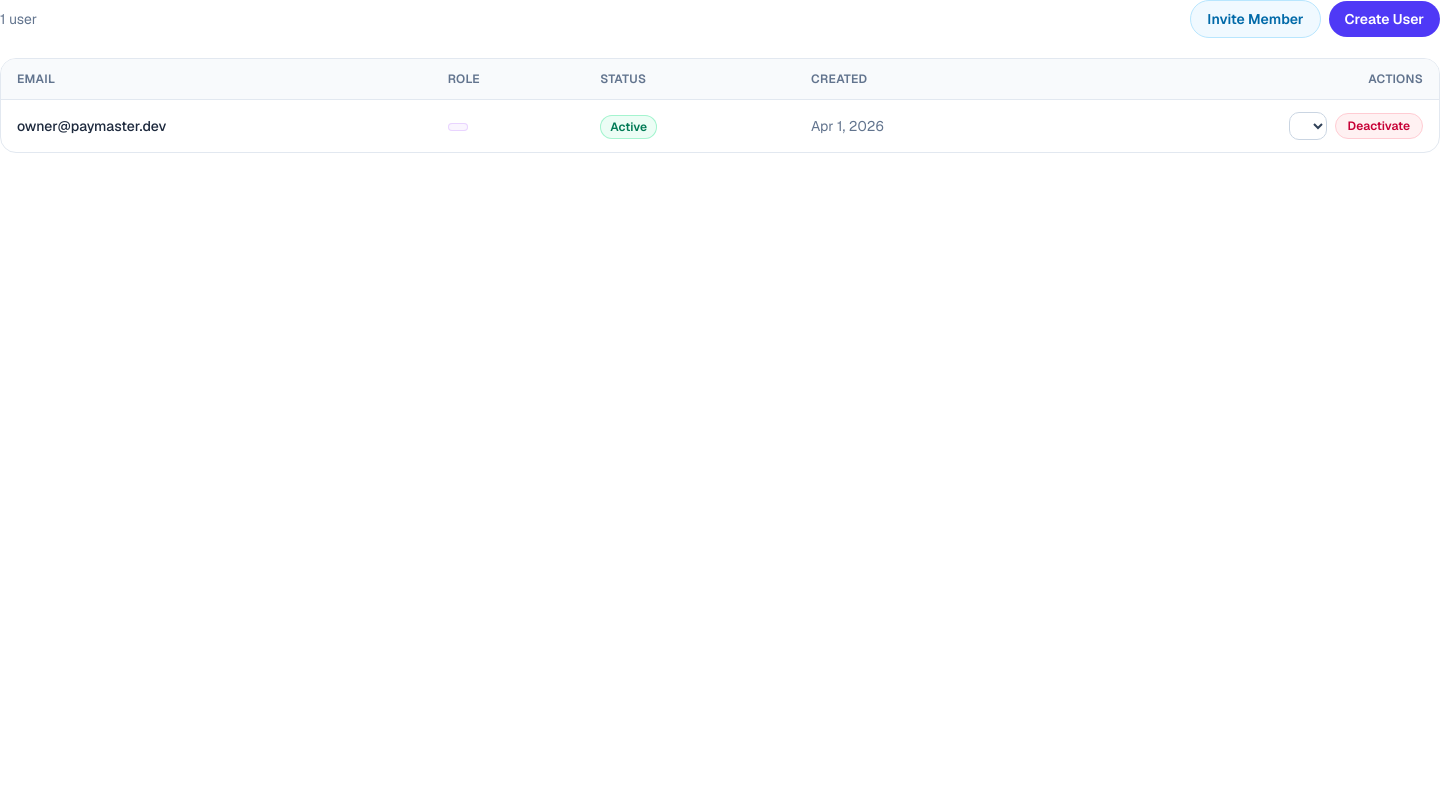
Scenario: AdminUsersTable invitations › creates fallback invitation when API is unavailable
This screenshot has width=1440, height=810.
Click the button "Invite Member" at (1255, 19), box [1190,0,1321,38]
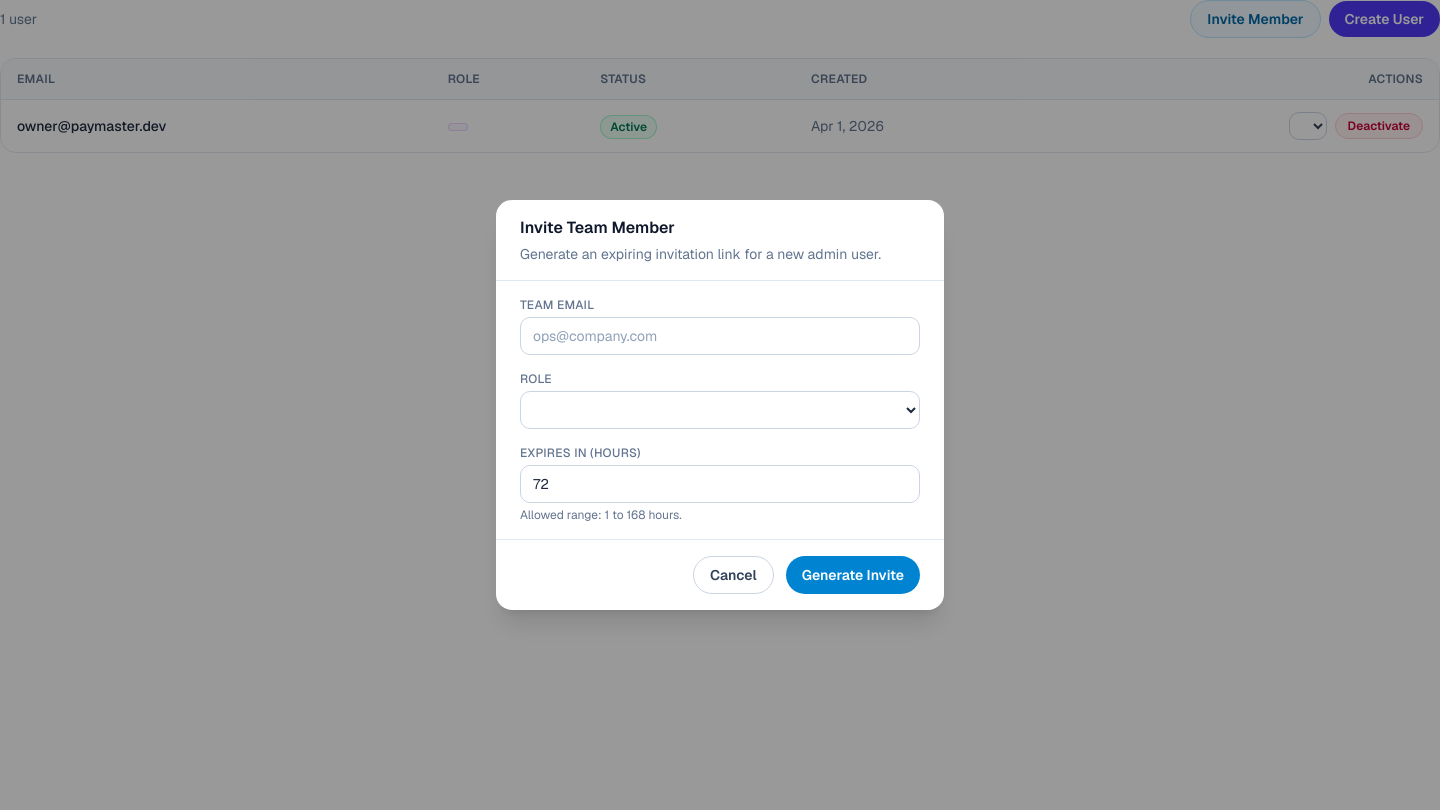
Type "ops@paymaster.dev" into the field with placeholder "ops@company.com" at (720, 336), box [520,317,920,355]
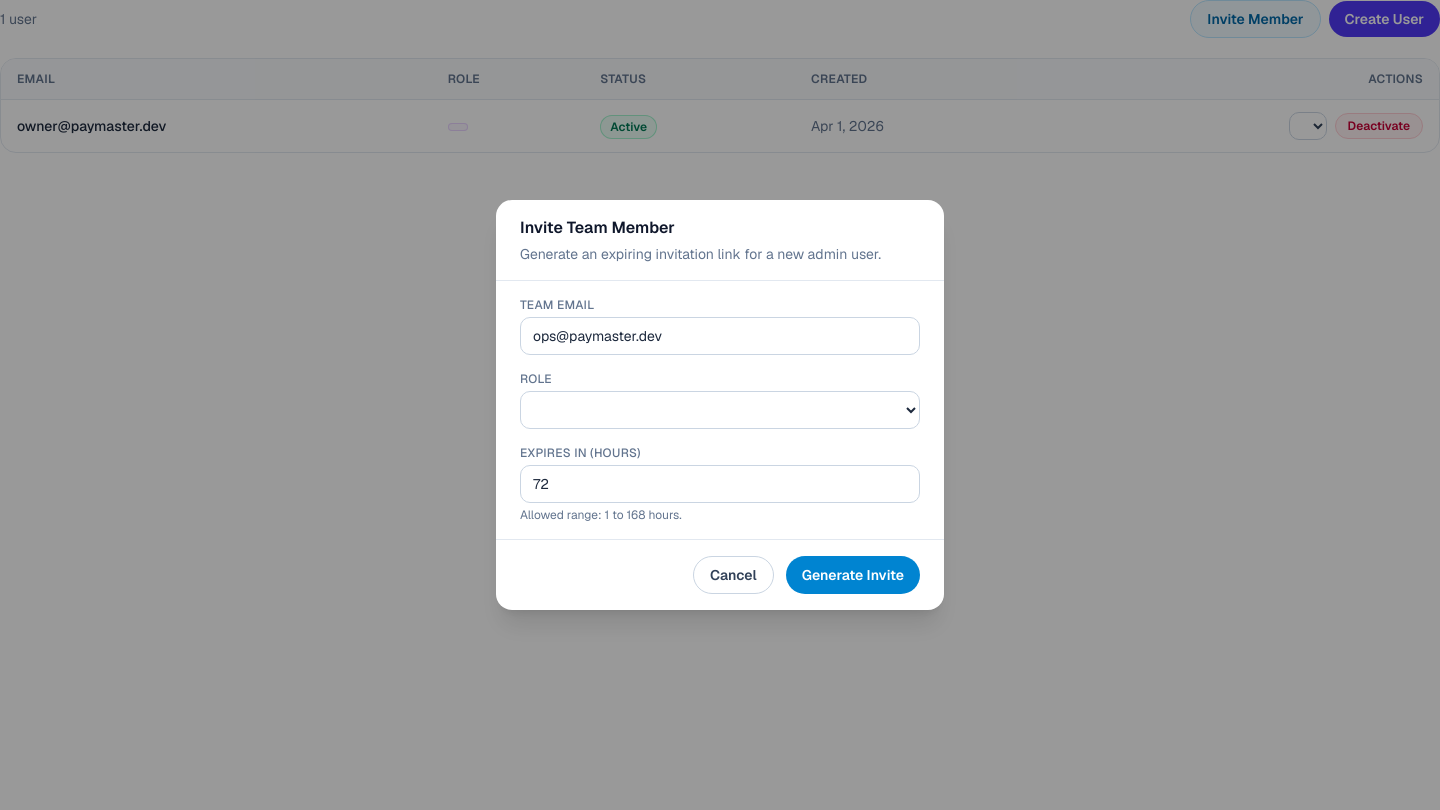
Click the button "Generate Invite" at (853, 575), box [786,556,920,594]
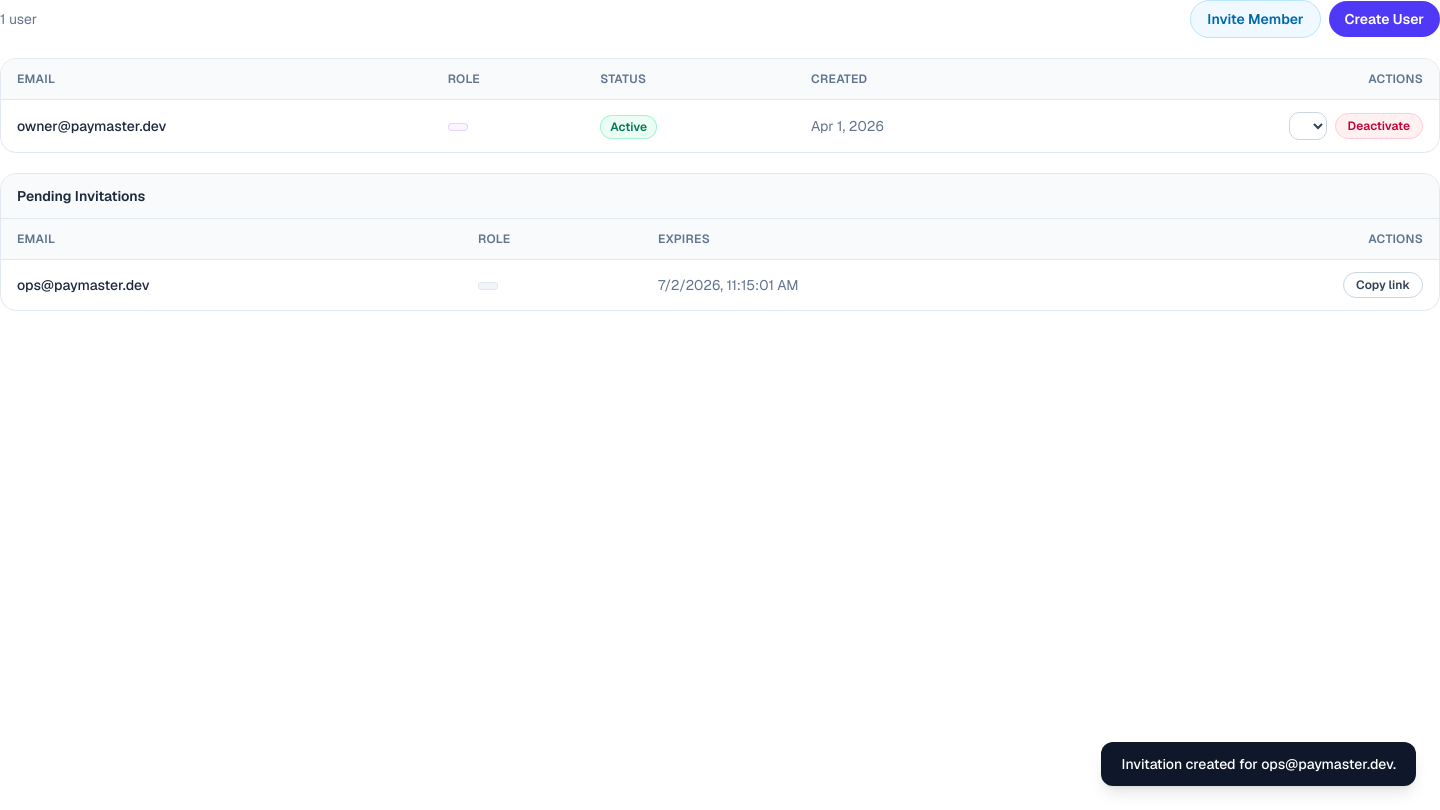
Expected: the text "ops@paymaster.dev" is shown, [1,260,462,310]
Expected: the heading "Pending Invitations" is shown, [17,187,145,205]
